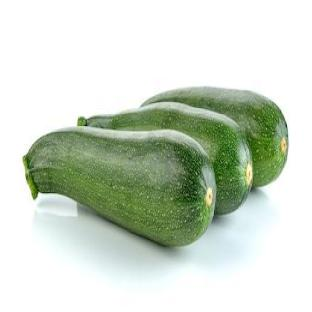Zucchini: (23, 128, 216, 245), (78, 102, 252, 213), (144, 88, 288, 187)
